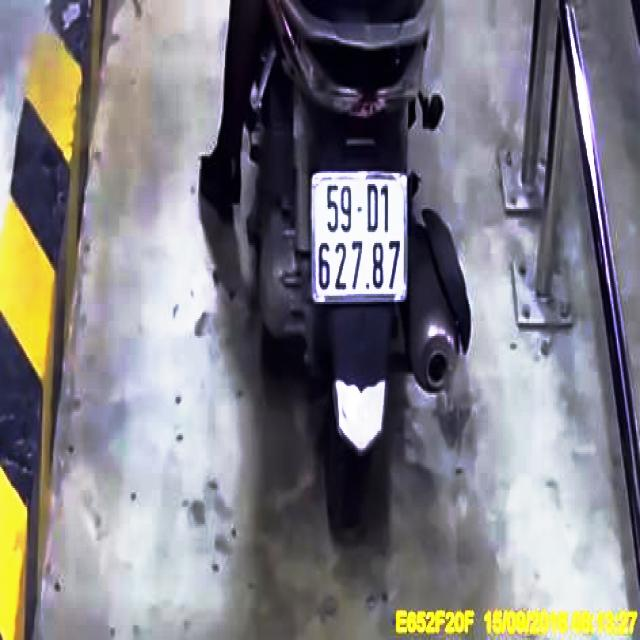license_plate: (314, 171, 408, 301)
